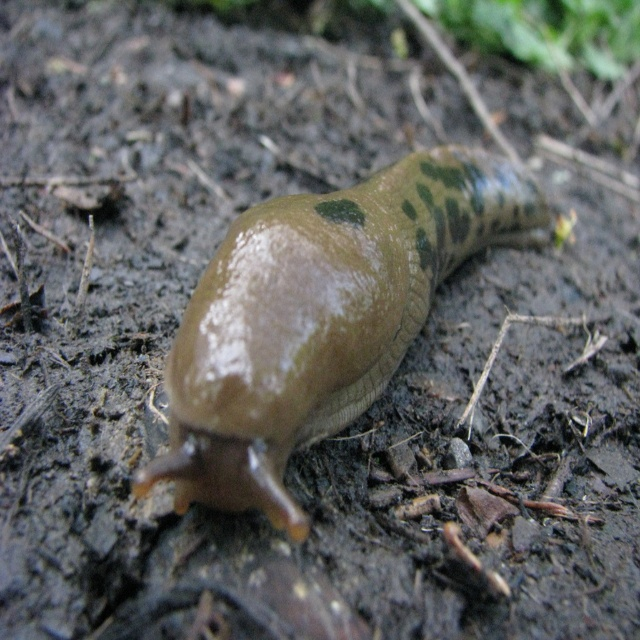Snail: (130, 143, 551, 543)
